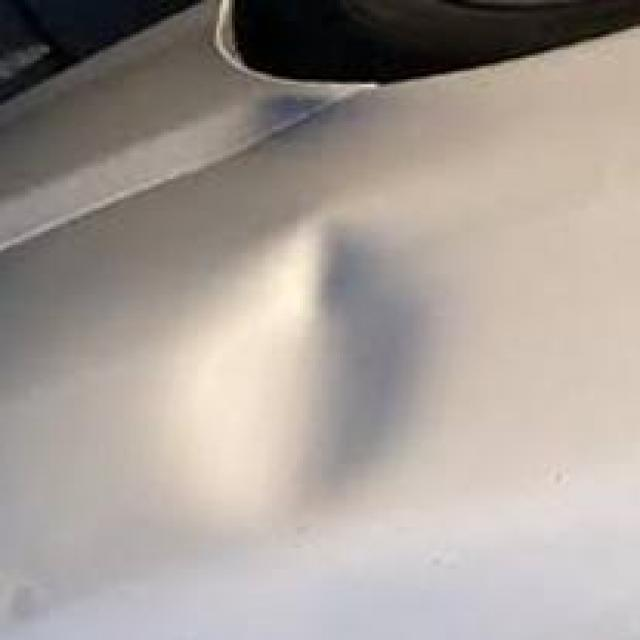dent: (168, 222, 426, 518)
